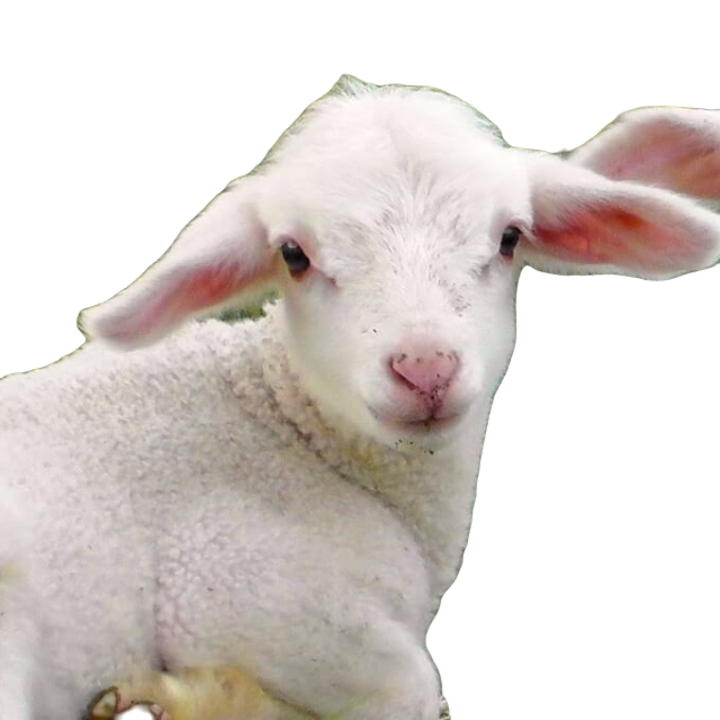Sheep: (0, 77, 719, 719)
